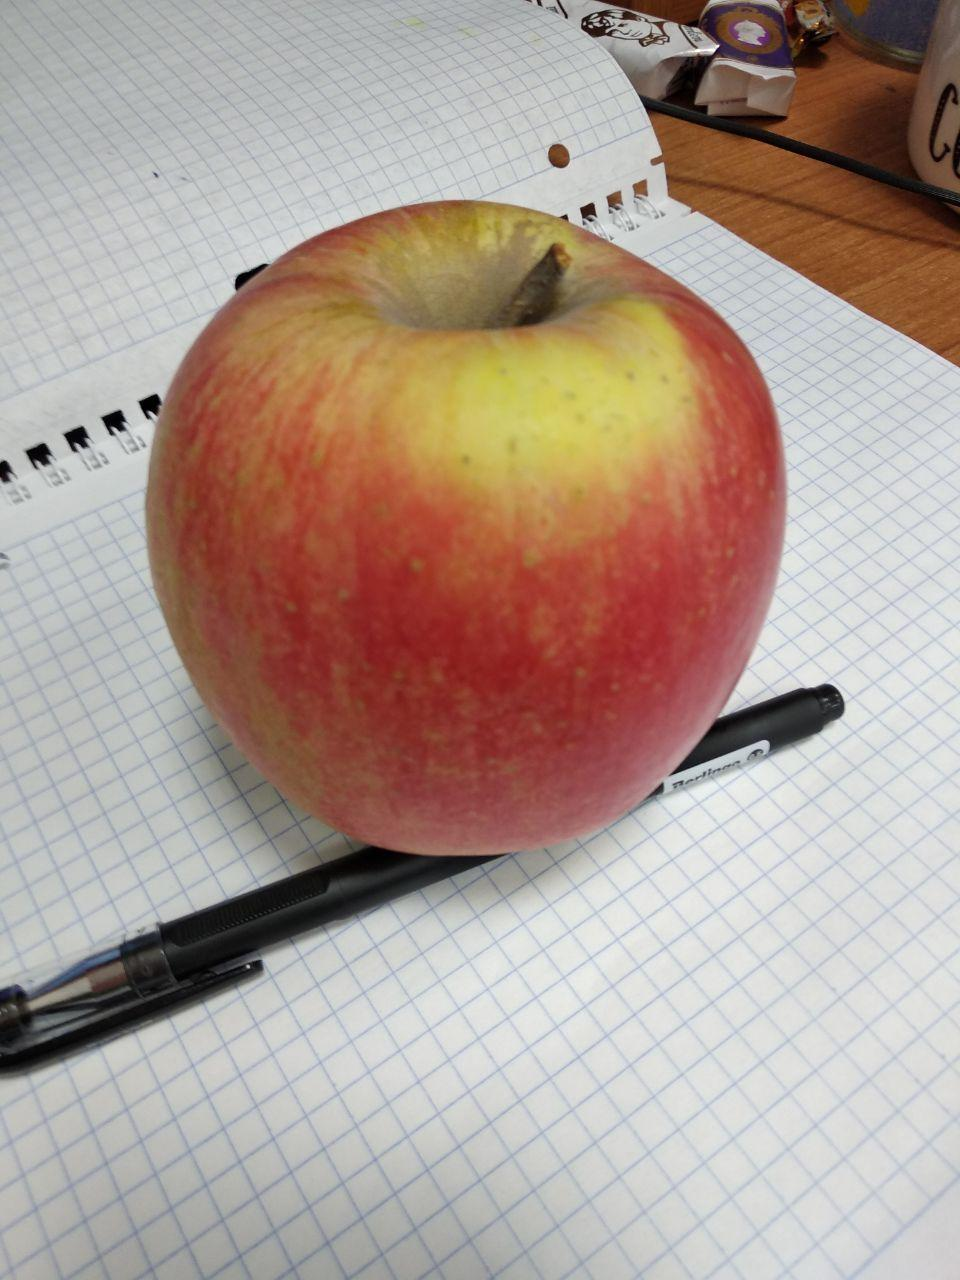Apple: (142, 195, 788, 865)
